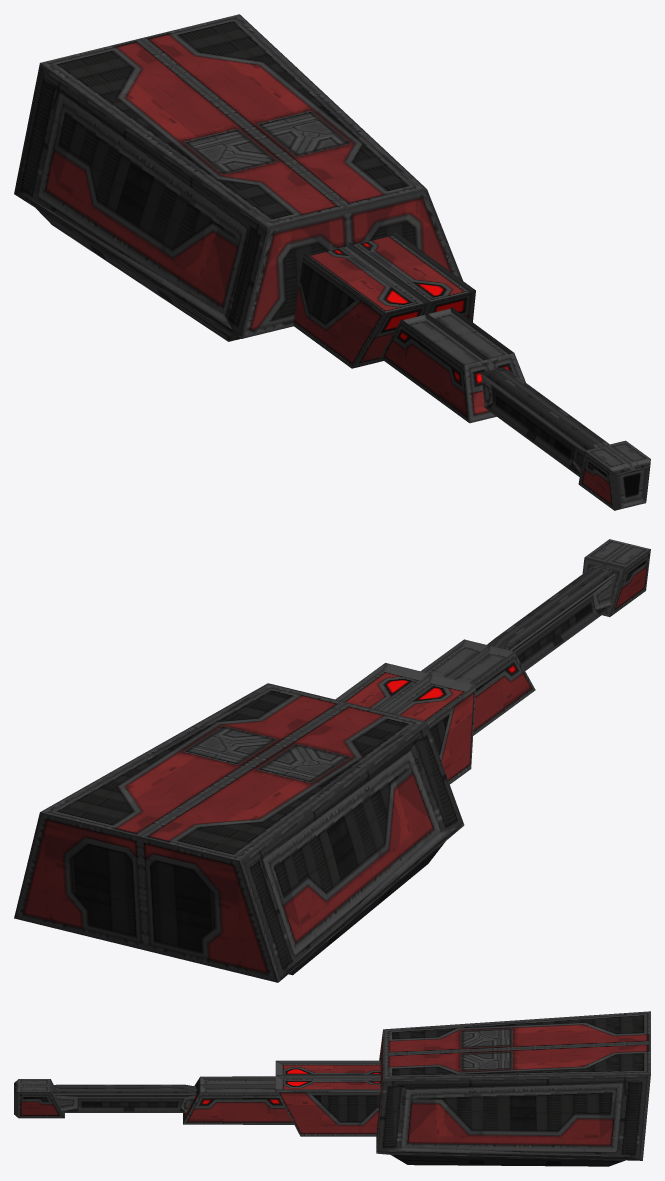
Rendered from BFP_PhaseCannon01_Upper.FBX.
3 views of the same model, one above another, from view 1: azimuth 30°, elevation 25°; view 2: azimuth 150°, elevation 25°; view 3: azimuth 270°, elevation 25° (orthographic). The views are drawn at different scales.
Parts seen in each view (by area): view 1: BFP_PhaseCannon01_Upper; view 2: BFP_PhaseCannon01_Upper; view 3: BFP_PhaseCannon01_Upper.
Part boxes in pixels (box(x1,y1,x2,y2)): BFP_PhaseCannon01_Upper: box(14, 14, 650, 510); BFP_PhaseCannon01_Upper: box(14, 539, 650, 982); BFP_PhaseCannon01_Upper: box(14, 1011, 650, 1166).
Bounding box in the file's own units: 159 × 80.85 × 514.
Materials: 1 (1 with a texture image).
